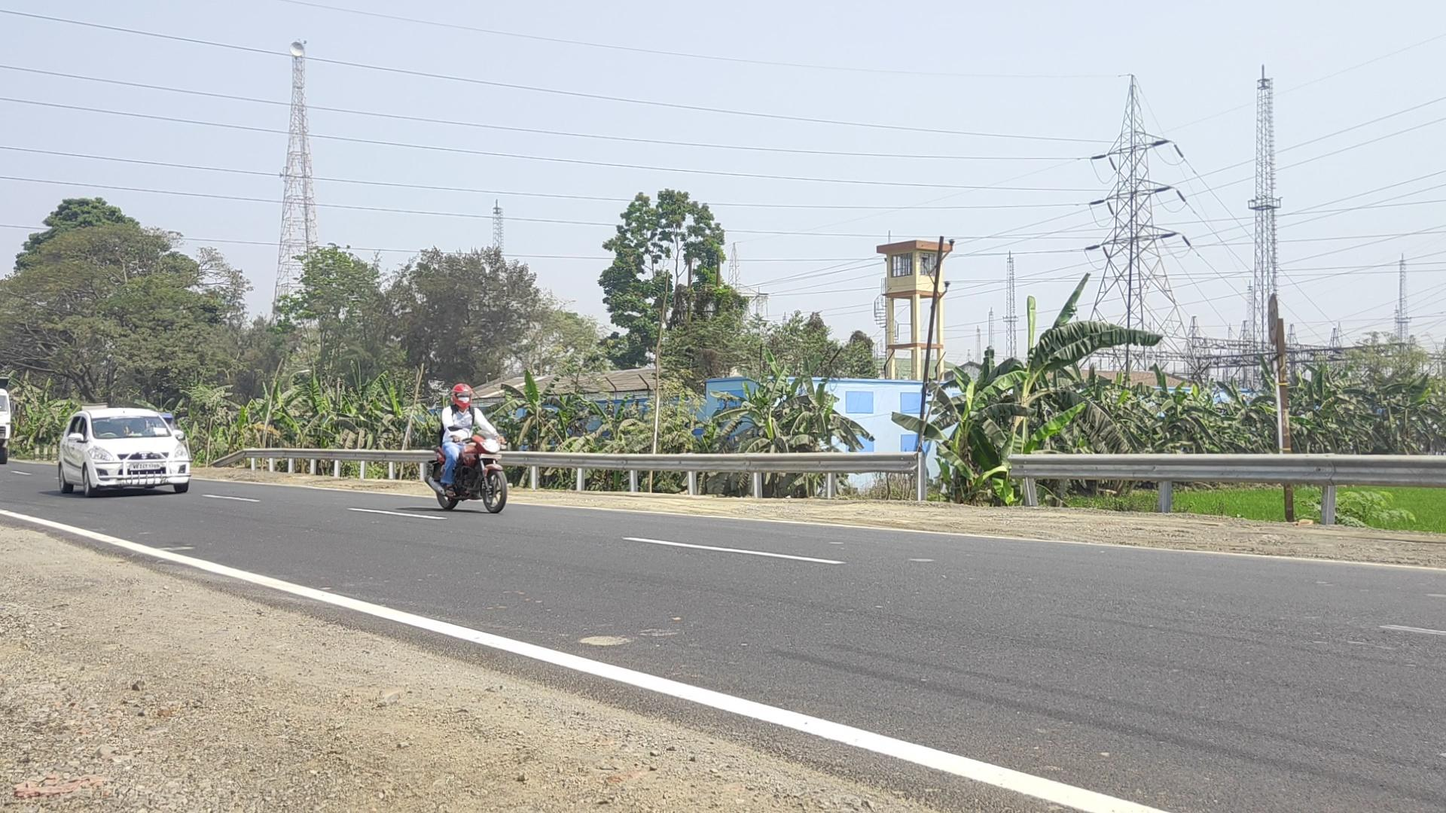bike: (424, 383, 508, 514)
car: (58, 407, 191, 499)
